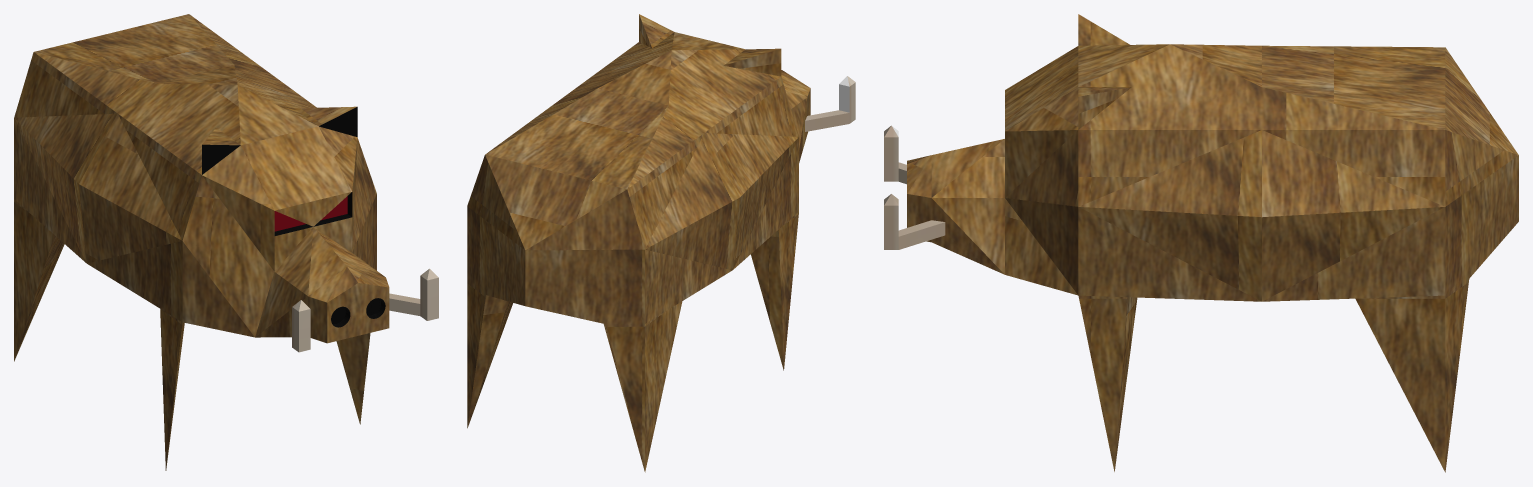
File: merjasec.obj
3 renders of one model, left to right at view 1: azimuth 30°, elevation 25°; view 2: azimuth 150°, elevation 25°; view 3: azimuth 270°, elevation 25°, orthographic. The views are drawn at different scales.
Visible parts, largest first — view 1: merjasec_Main-Material1, merjasec_Main-Material4, merjasec_Main-Material2, merjasec_Main-Material3; view 2: merjasec_Main-Material1, merjasec_Main-Material2; view 3: merjasec_Main-Material1, merjasec_Main-Material2.
Part boxes in pixels (x1=…): merjasec_Main-Material1: x1=14, y1=14, x2=389, y2=470; merjasec_Main-Material4: x1=202, y1=107, x2=385, y2=327; merjasec_Main-Material2: x1=292, y1=268, x2=438, y2=352; merjasec_Main-Material3: x1=274, y1=196, x2=347, y2=231; merjasec_Main-Material1: x1=467, y1=14, x2=810, y2=472; merjasec_Main-Material2: x1=805, y1=76, x2=855, y2=131; merjasec_Main-Material1: x1=907, y1=14, x2=1518, y2=472; merjasec_Main-Material2: x1=884, y1=125, x2=945, y2=249.
Bounding box in the file's own units: 0.6 × 0.85 × 1.3.
Materials: 5 (4 with a texture image).
